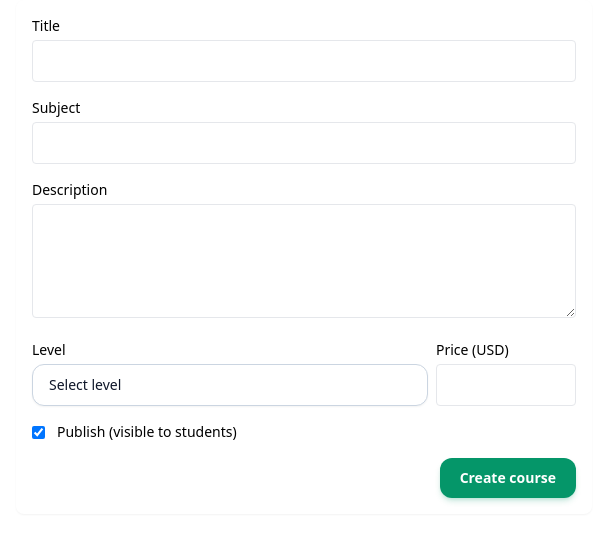
Test case: CreateCourseForm › shows API error message when course creation fails (FR5)
Type "Maths 101" into the field below "Title" at (304, 61), box [32, 40, 576, 82]
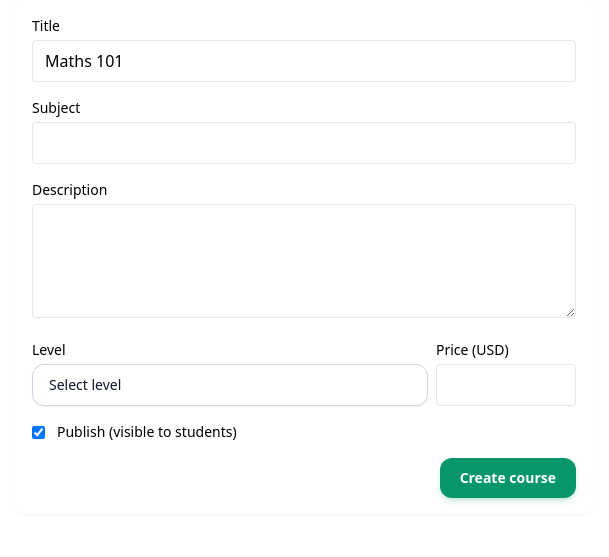
Type "Maths" into the field below "Subject" at (304, 143), box [32, 122, 576, 164]
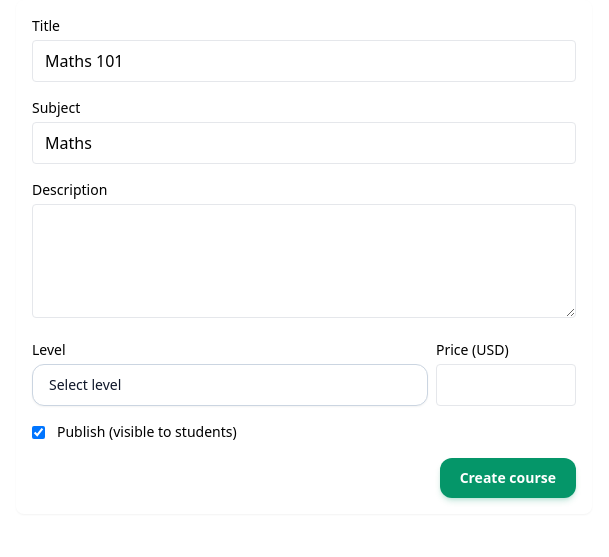
Submit the form
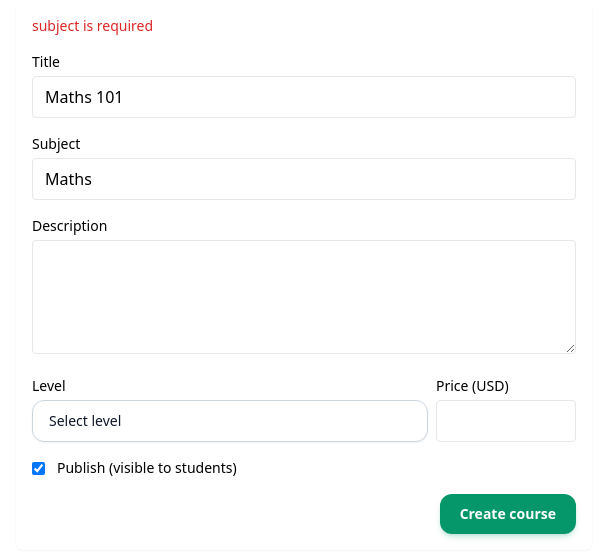
expect the text "subject is required" is shown: met, box [32, 16, 153, 35]
